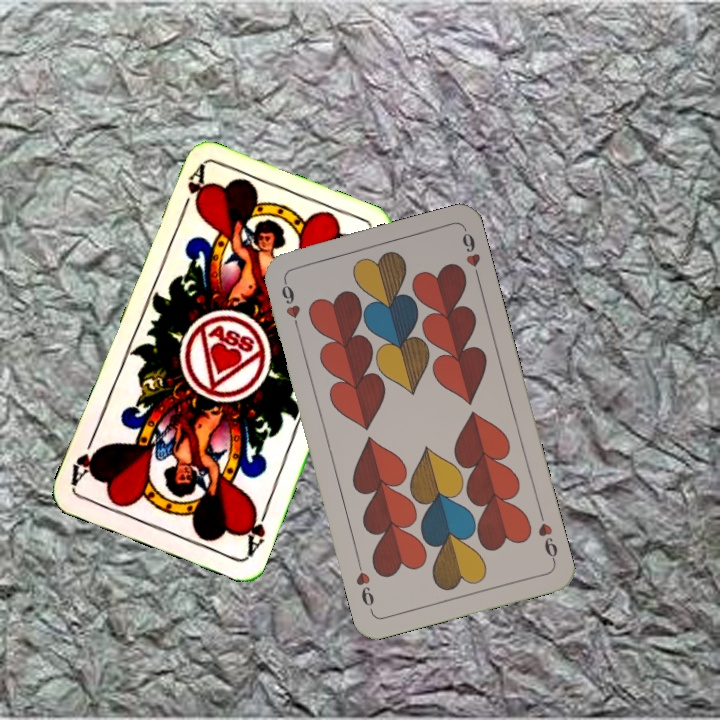H9: (534, 507, 561, 565), (277, 275, 303, 334)
HA: (240, 501, 272, 559), (176, 162, 208, 220)
